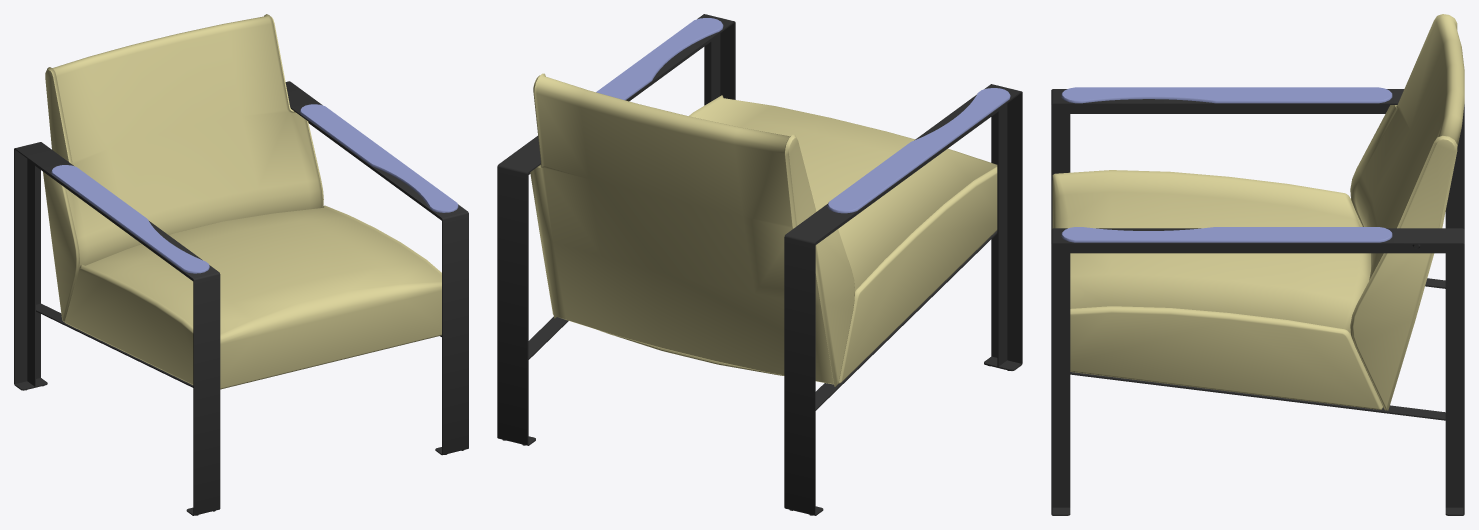
File: MZACH05.FBX
3 renders of one model, left to right at view 1: azimuth 30°, elevation 25°; view 2: azimuth 150°, elevation 25°; view 3: azimuth 270°, elevation 25°, orthographic. The views are drawn at different scales.
Visible parts, largest first — view 1: MZACH05; view 2: MZACH05; view 3: MZACH05.
Boxes of the visible parts, x1,y1,x2,y2 form: MZACH05: [14, 14, 468, 515]; MZACH05: [497, 14, 1022, 515]; MZACH05: [1051, 14, 1464, 515].
Size of the model in its own units: 73 by 82.7 by 80.5.
